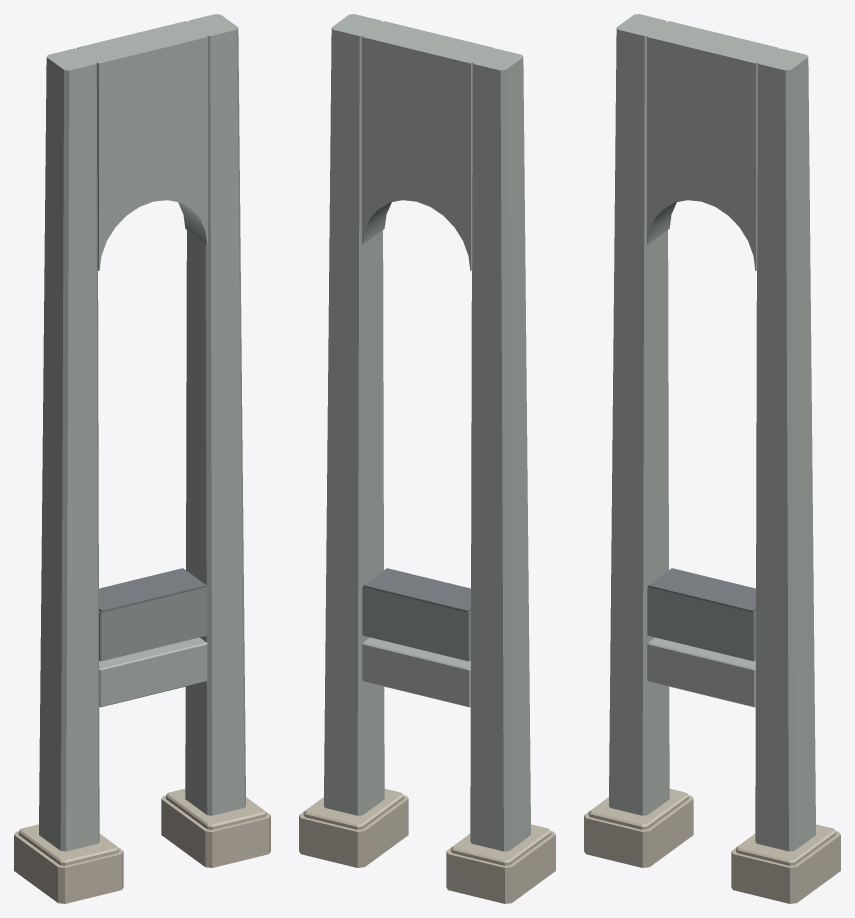
The model's file is nyc-verrazzano-narrows-bridge.glb.
3 renders of one model, left to right at view 1: azimuth 30°, elevation 25°; view 2: azimuth 150°, elevation 25°; view 3: azimuth 330°, elevation 25°, orthographic.
Parts seen in each view (by area): view 1: Verrazzano-Narrows Bridge tower; view 2: Verrazzano-Narrows Bridge tower; view 3: Verrazzano-Narrows Bridge tower.
Part boxes in pixels (x1,y1,x2,y2): Verrazzano-Narrows Bridge tower: [14, 14, 270, 903]; Verrazzano-Narrows Bridge tower: [299, 14, 555, 903]; Verrazzano-Narrows Bridge tower: [584, 14, 840, 903].
Bounding box in the file's own units: 57.4 × 211 × 23.
